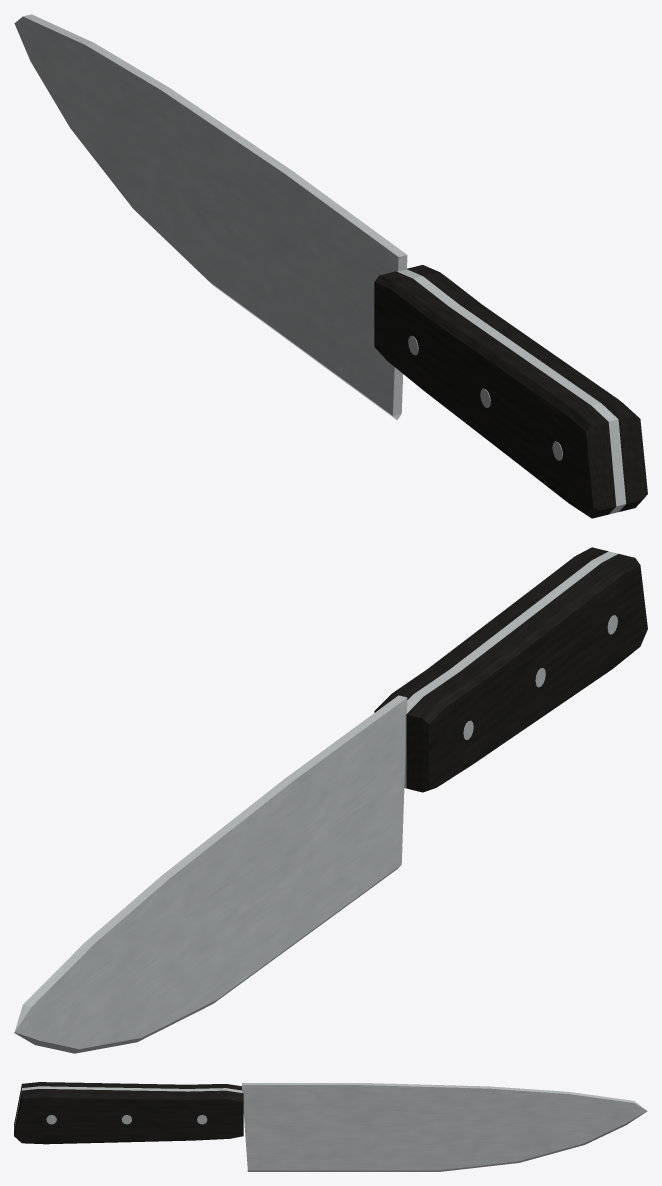
File: kitchen_knife.glb
3 renders of one model, top to bottom at view 1: azimuth 30°, elevation 25°; view 2: azimuth 150°, elevation 25°; view 3: azimuth 270°, elevation 25°, orthographic. The views are drawn at different scales.
Visible parts, largest first — view 1: Knife_Mesh; view 2: Knife_Mesh; view 3: Knife_Mesh.
Boxes of the visible parts, x1,y1,x2,y2 form: Knife_Mesh: (14, 14, 647, 518); Knife_Mesh: (14, 547, 647, 1053); Knife_Mesh: (14, 1082, 647, 1171).
Size of the model in its own units: 0.0169 by 0.049 by 0.32.
Materials: 1 (1 with a texture image).
